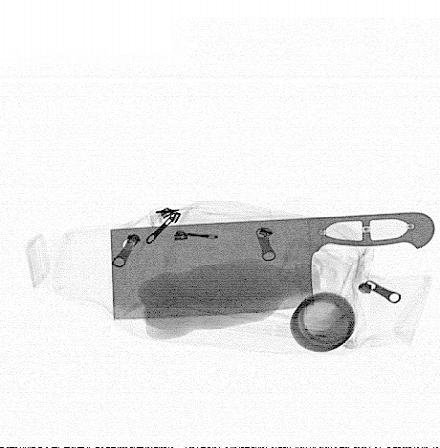Knife: (109, 211, 437, 321)
